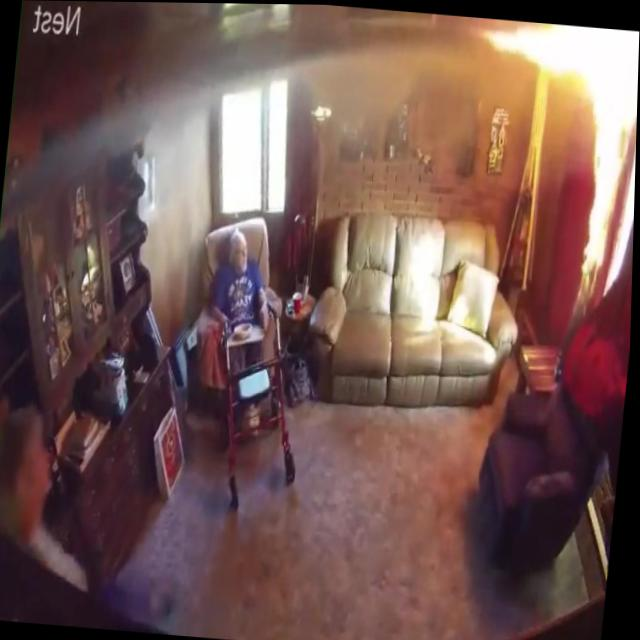fire: (575, 26, 640, 300), (477, 18, 640, 100)
